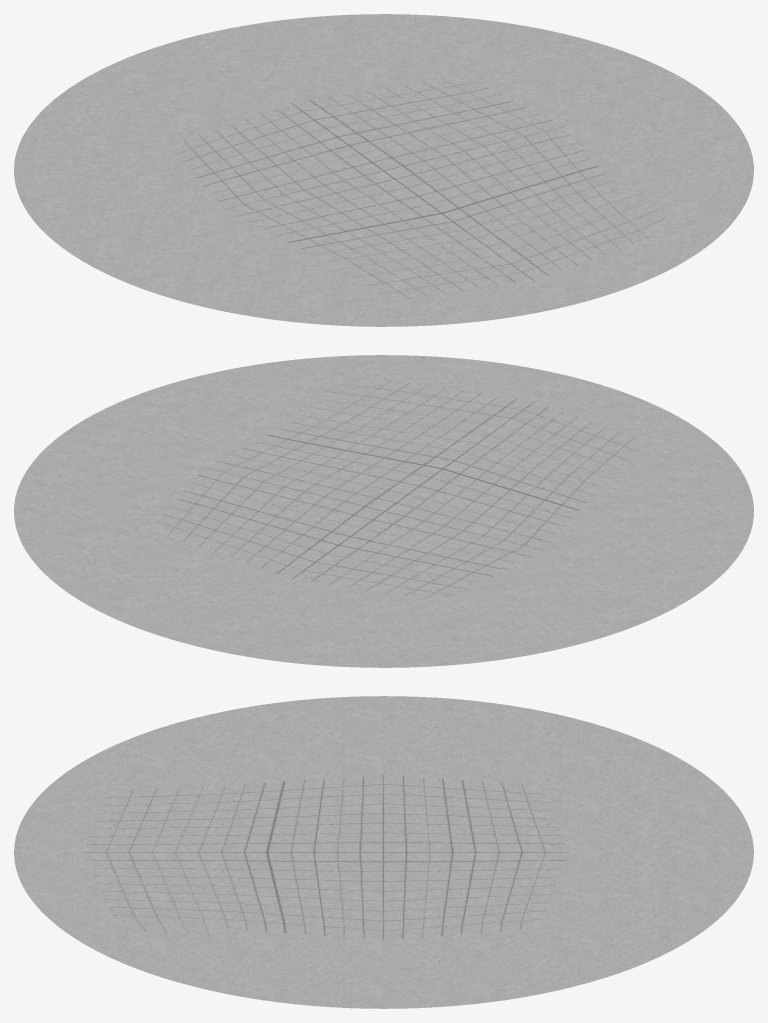
The model's file is Sidewalk.fbx.
3 renders of one model, top to bottom at view 1: azimuth 30°, elevation 25°; view 2: azimuth 150°, elevation 25°; view 3: azimuth 270°, elevation 25°, orthographic.
Visible parts, largest first — view 1: Concrete; view 2: Concrete; view 3: Concrete.
Part boxes in pixels (x1,y1,x2,y2): Concrete: (14,14,753,326); Concrete: (14,355,753,667); Concrete: (14,696,753,1008).
Bounding box in the file's own units: 119 × 0 × 119.
1 material, 1 textured.
